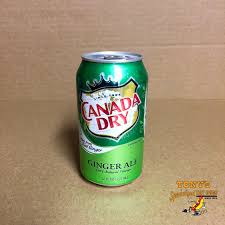Lata: (74, 49, 151, 190)
